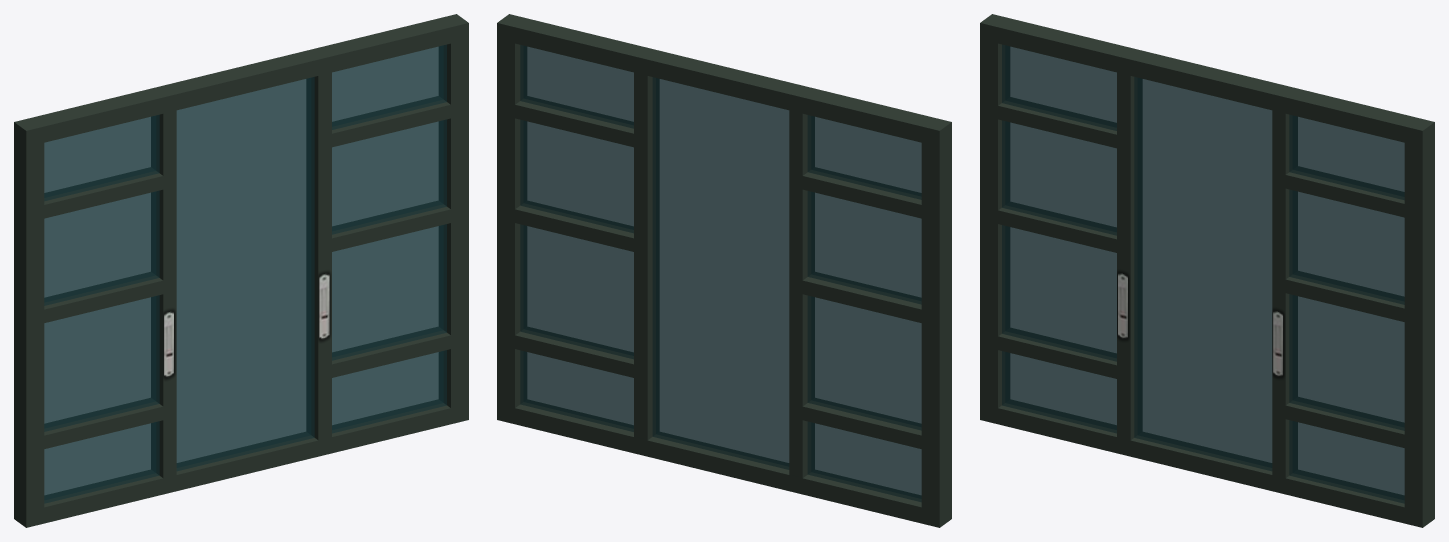
File: window_1.FBX
3 renders of one model, left to right at view 1: azimuth 30°, elevation 25°; view 2: azimuth 150°, elevation 25°; view 3: azimuth 330°, elevation 25°, orthographic.
Visible parts, largest first — view 1: glass, window_1, Box002, Box004, Box005, Box007, Box009, Box003, Box006, Box008; view 2: glass, window_1, Box002, Box004, Box005, Box006, Box007, Box008, Box009, Box003; view 3: glass, window_1, Box004, Box002, Box003, Box005, Box006, Box008, Box009, Box007.
Part boxes in pixels (<box>): glass: <box>44,44,446,503</box>; window_1: <box>14,14,468,527</box>; Box002: <box>307,72,331,440</box>; Box004: <box>151,110,176,478</box>; Box005: <box>44,167,163,218</box>; Box007: <box>44,272,163,322</box>; Box009: <box>44,398,163,448</box>; Box003: <box>332,96,450,147</box>; Box006: <box>332,201,450,251</box>; Box008: <box>332,327,450,377</box>; glass: <box>520,45,921,501</box>; window_1: <box>497,14,951,527</box>; Box002: <box>634,72,658,440</box>; Box004: <box>789,110,814,478</box>; Box005: <box>802,167,921,218</box>; Box006: <box>515,201,634,251</box>; Box007: <box>802,272,921,322</box>; Box008: <box>515,327,634,377</box>; Box009: <box>802,398,921,448</box>; Box003: <box>515,96,634,147</box>; glass: <box>1002,44,1404,503</box>; window_1: <box>980,14,1434,527</box>; Box004: <box>1117,72,1141,440</box>; Box002: <box>1272,110,1297,478</box>; Box003: <box>1285,166,1404,217</box>; Box005: <box>998,97,1117,148</box>; Box006: <box>1285,271,1404,321</box>; Box008: <box>1285,397,1404,447</box>; Box009: <box>998,328,1117,378</box>; Box007: <box>998,202,1117,252</box>.
Bounding box in the file's own units: 21 × 18 × 1.
